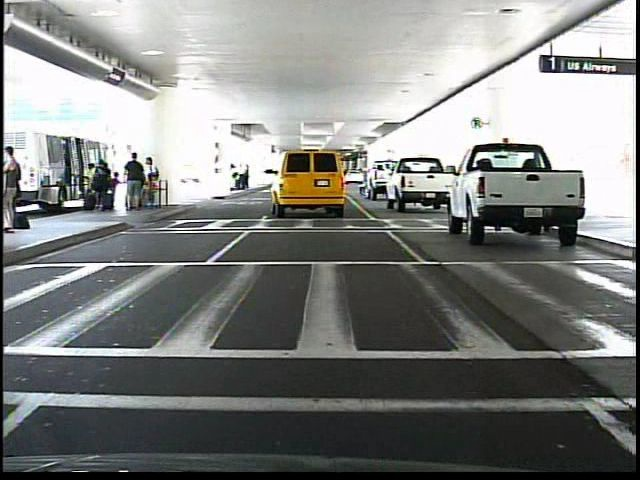person: (6, 144, 28, 231)
